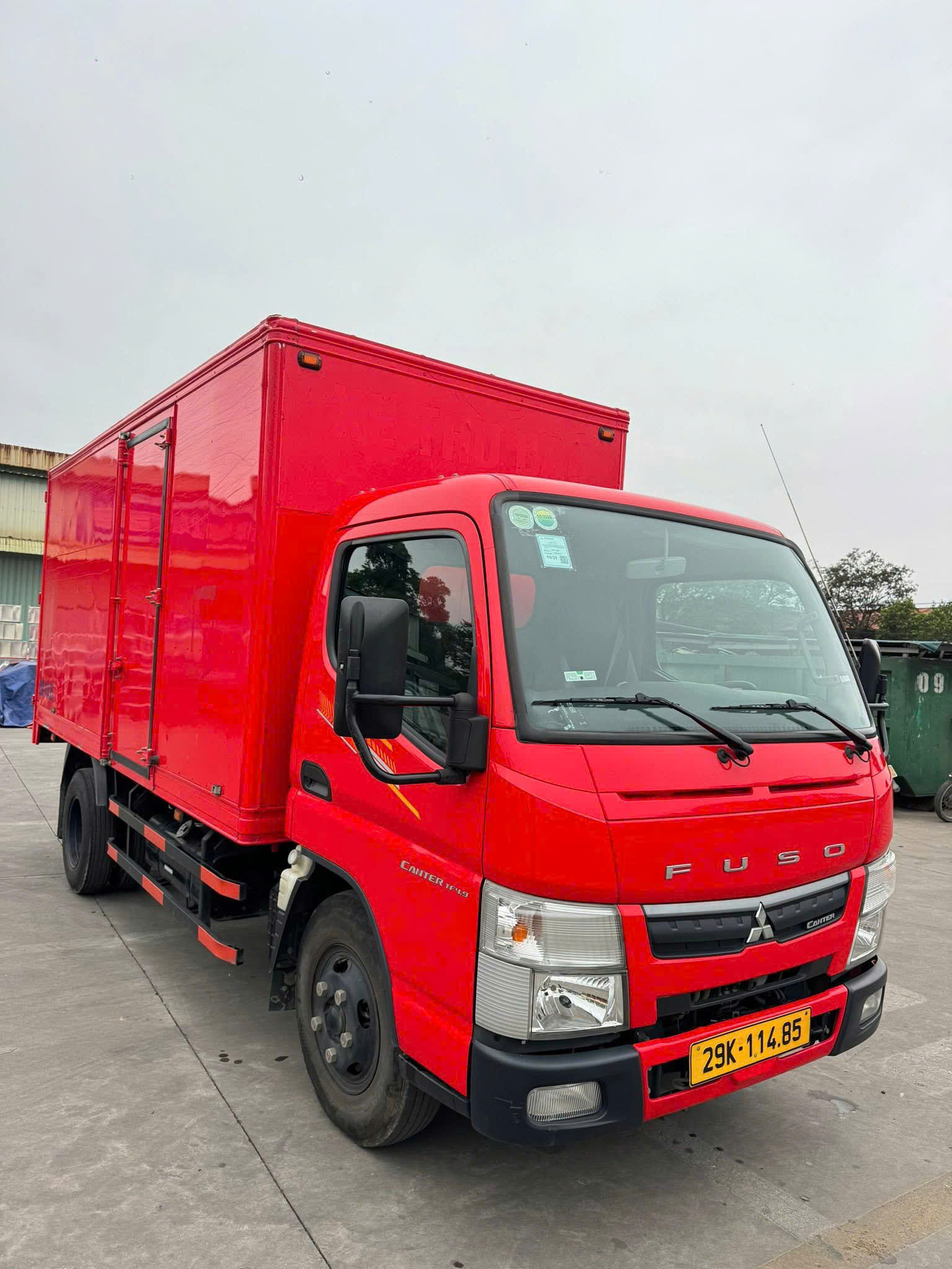Bien-so: (690, 1009, 809, 1090)
